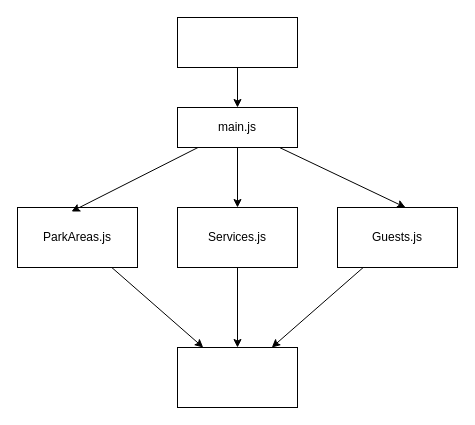
Image size: 475x425. Some labels were removed from this diagram. The shapes that lost their labels are listed below. From the top down, each one's centre as x and y in pixels, then its label:
point 237,42: index.html
point 237,377: database.js
